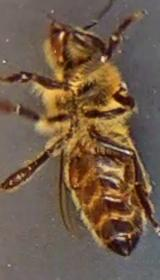varroa_mite: (61, 151, 85, 192)
